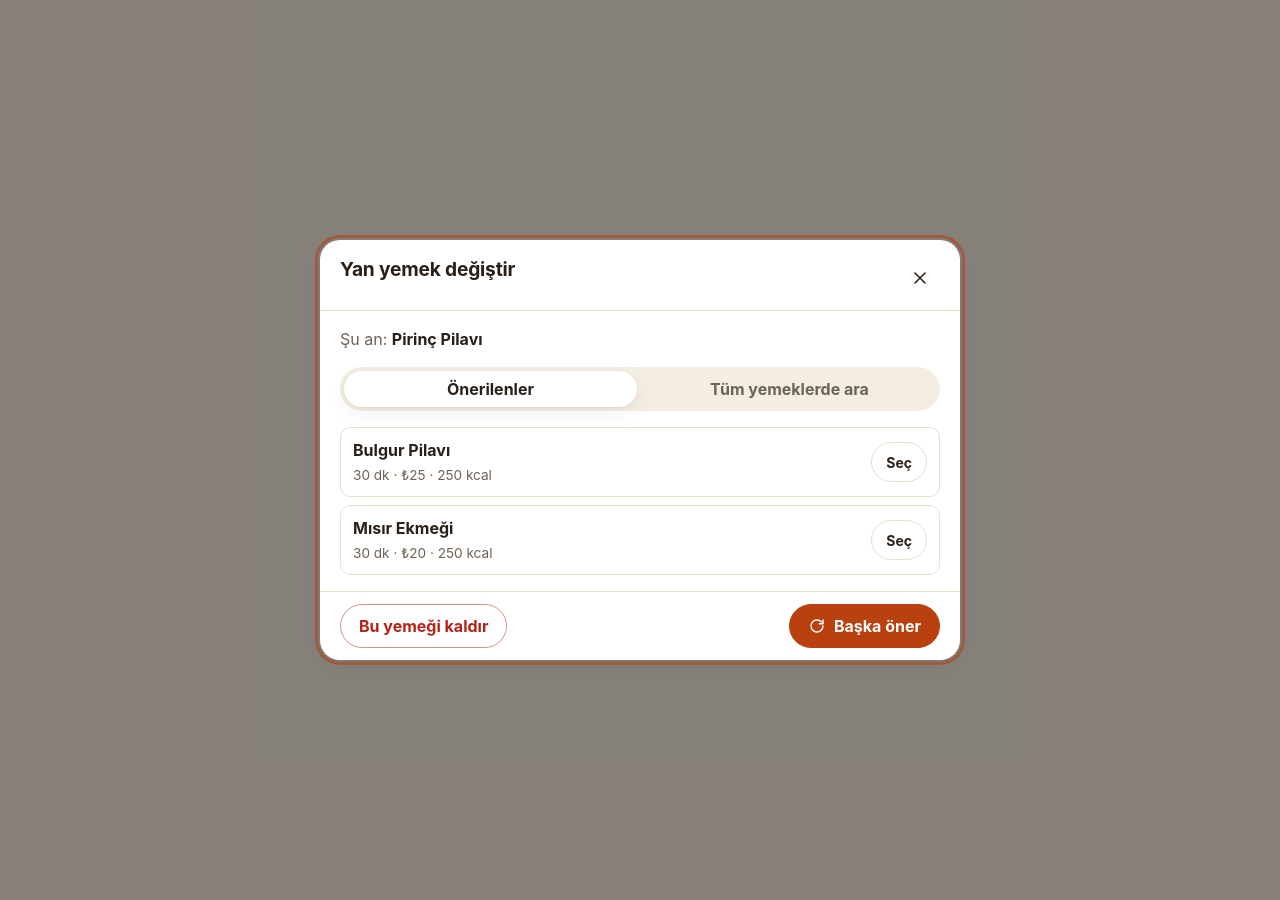
Scenario: AlternativesSheet › hata olursa mesajı gösterir ve açık kalır
Click the button "Başka öner".
click(864, 626)  # box [789,604,940,648]
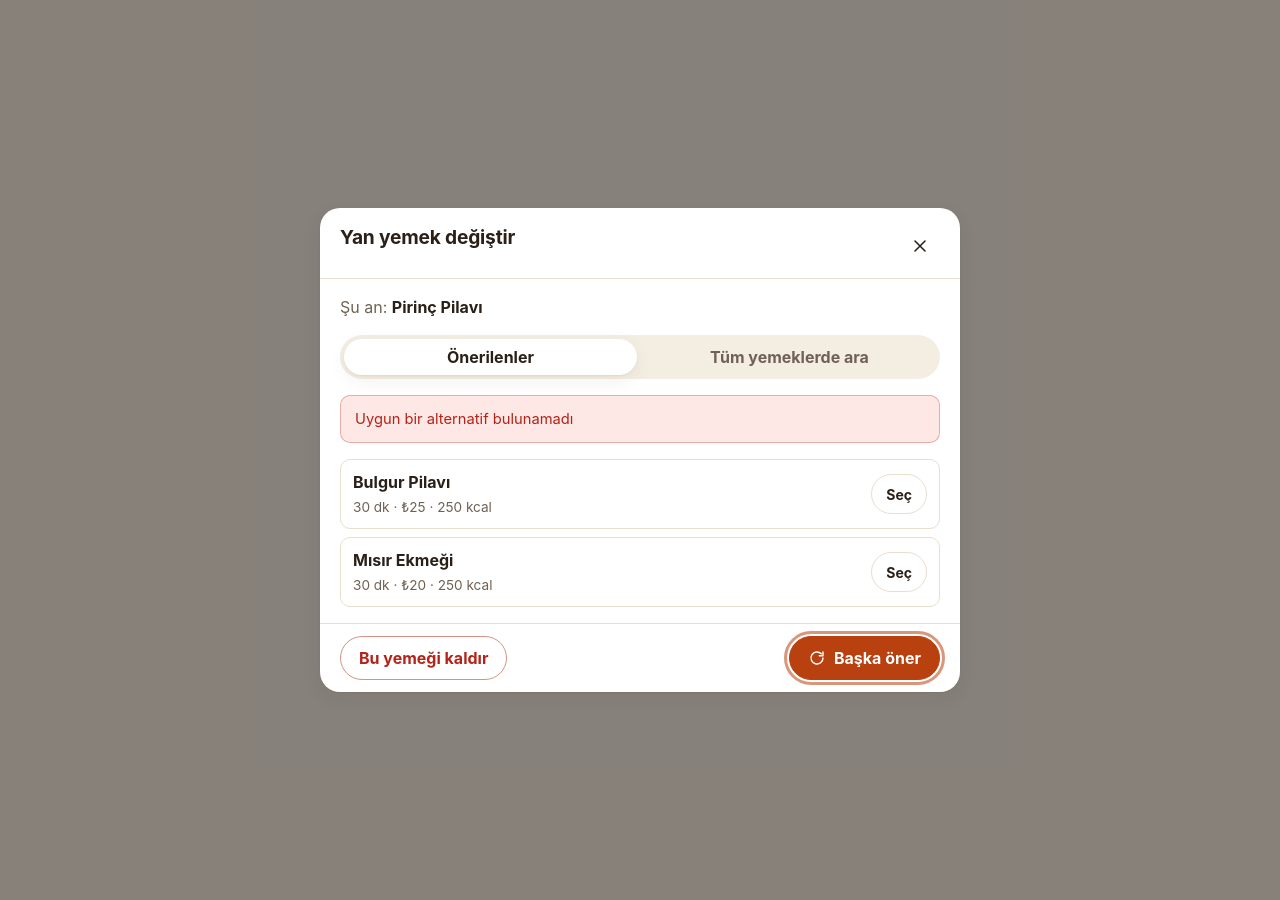
Now the message reads "Uygun bir alternatif bulunamadı", box [355,410,574,428]
